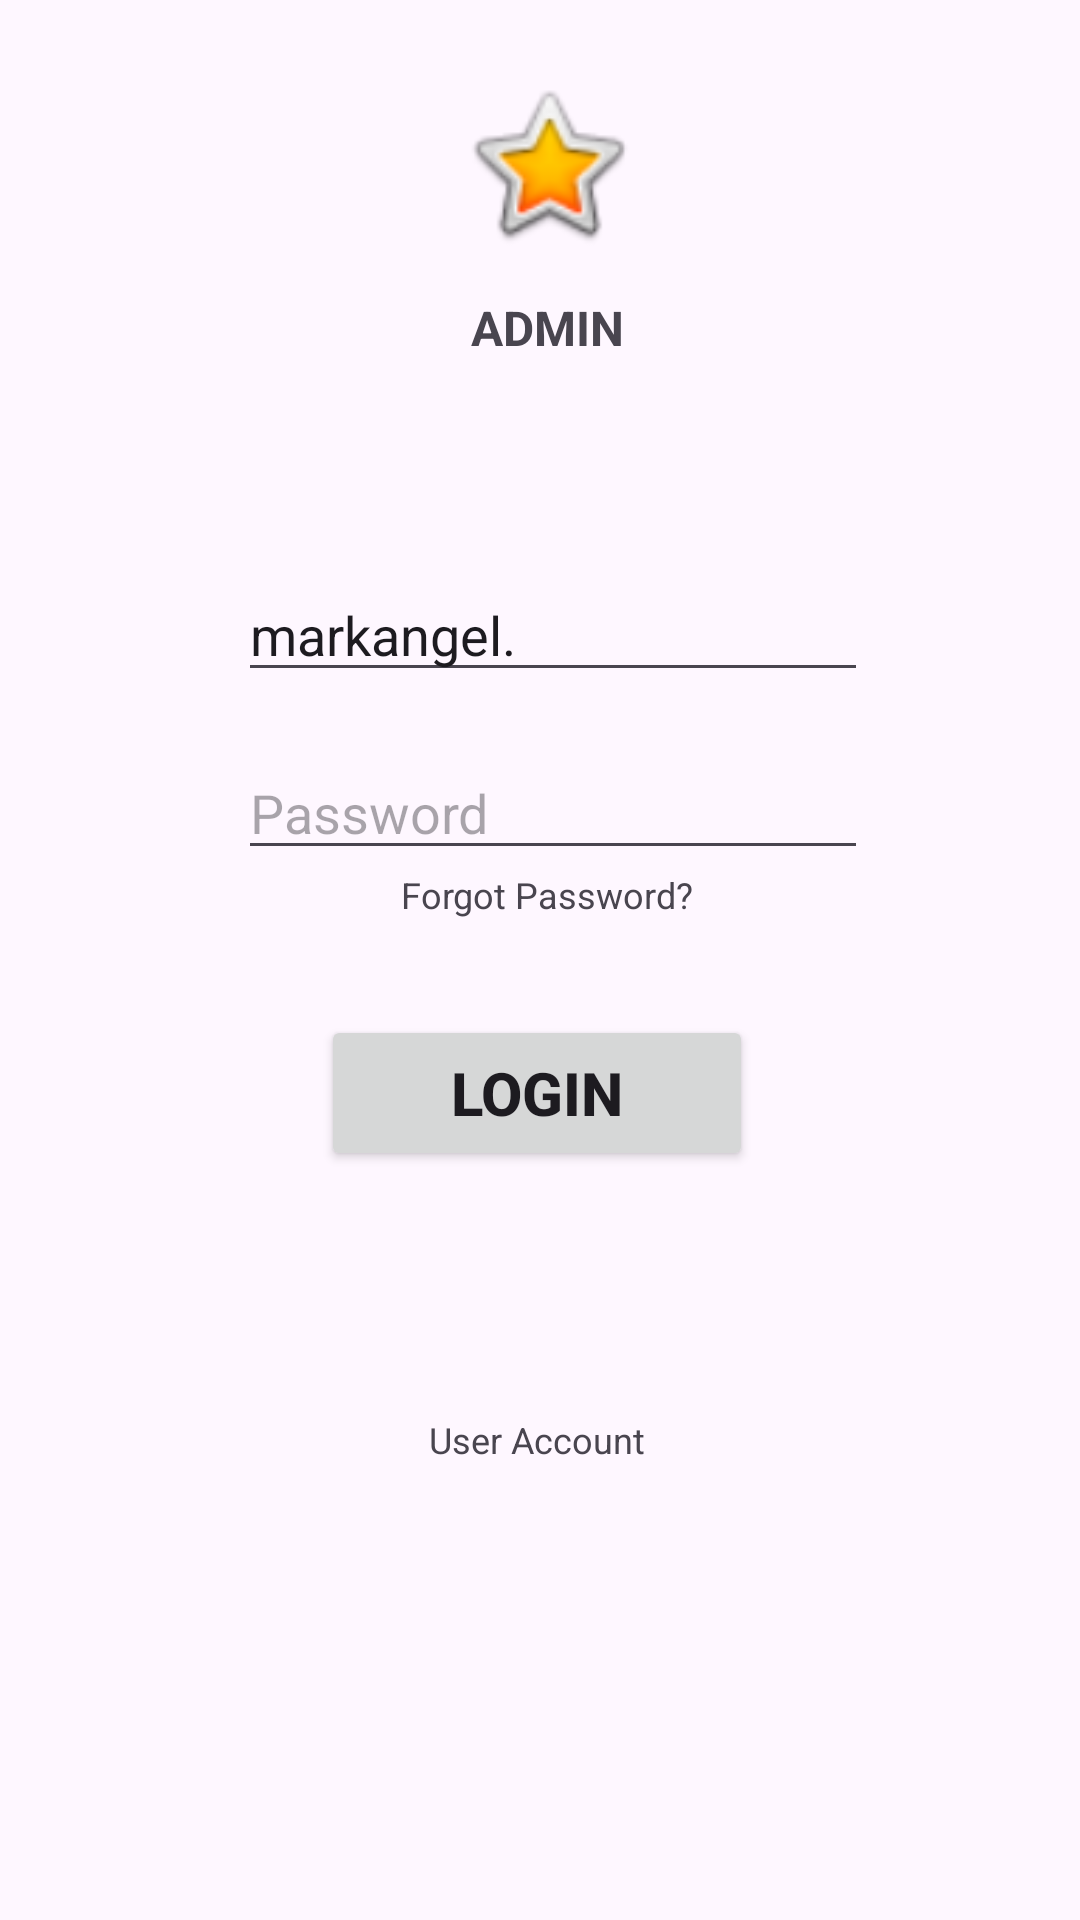

Named icons in this screenshot (1080*1920) and their bounding boxes, (x1, y1, x2, y2):
star on: (474, 92, 625, 239)
